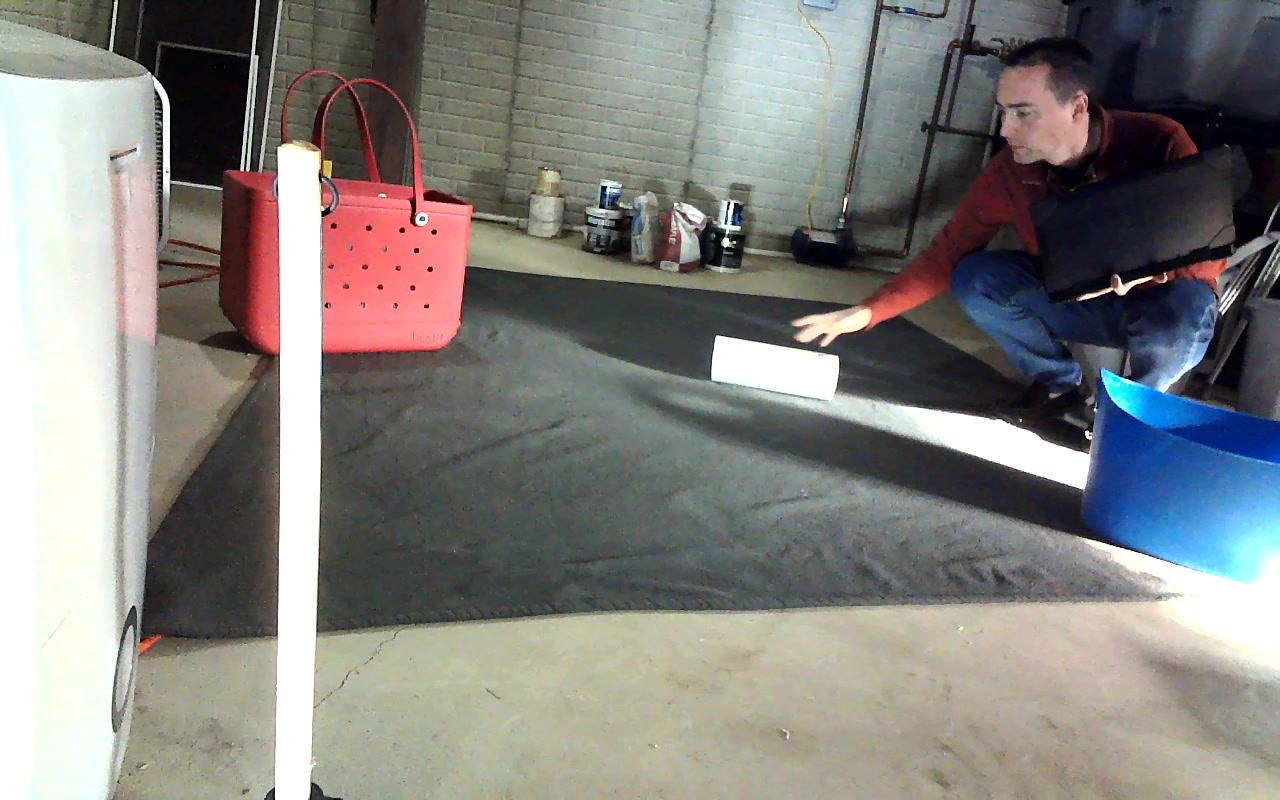coral: (710, 335, 839, 400)
